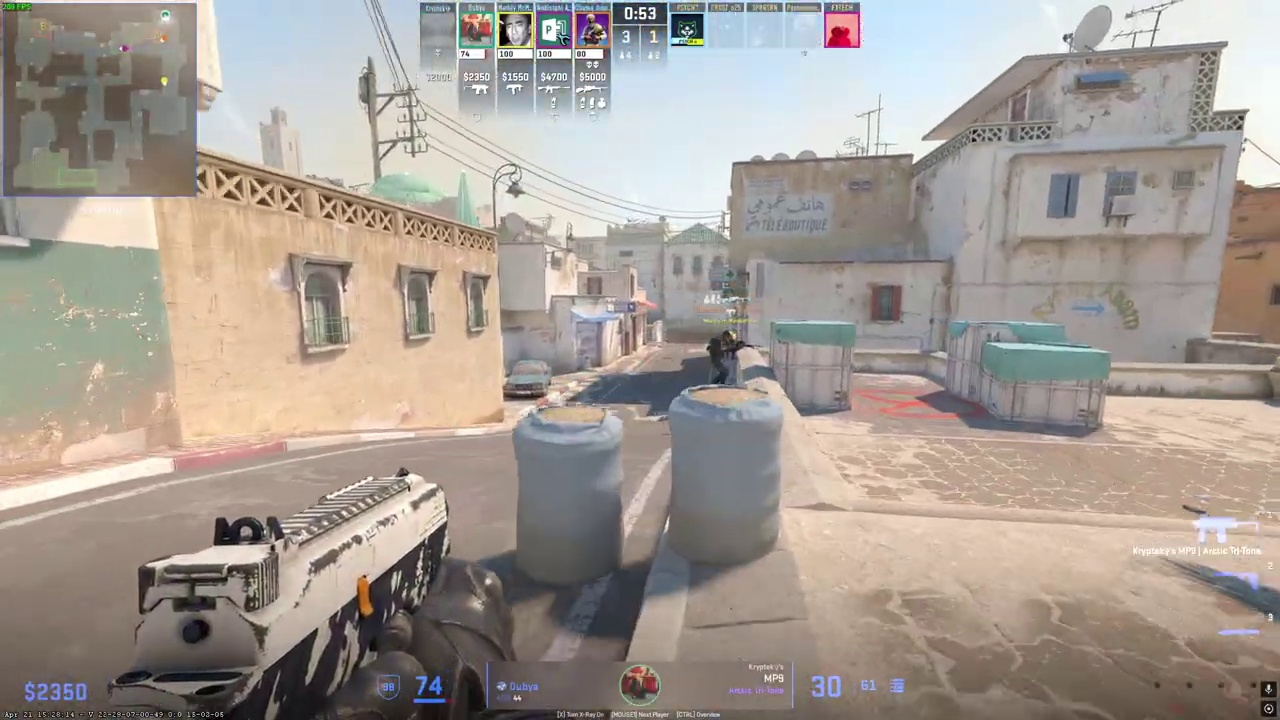CT: (707, 331, 739, 384)
